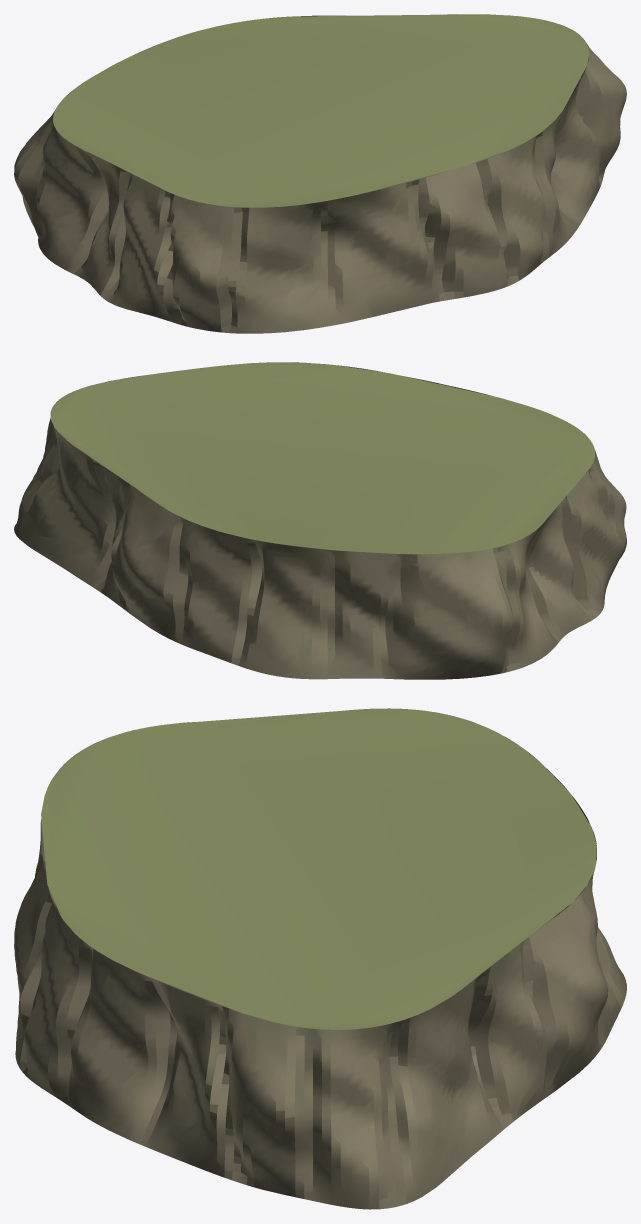
File: coast_1.glb
3 views of the same model, one above another, from view 1: azimuth 30°, elevation 25°; view 2: azimuth 150°, elevation 25°; view 3: azimuth 270°, elevation 25° (orthographic). The views are drawn at different scales.
Visible parts, largest first — view 1: Windmill limestone bank; view 2: Windmill limestone bank; view 3: Windmill limestone bank.
Boxes of the visible parts, x1,y1,x2,y2 form: Windmill limestone bank: [14, 14, 626, 333]; Windmill limestone bank: [14, 362, 626, 679]; Windmill limestone bank: [14, 708, 626, 1209].
Bounding box in the file's own units: 27.89 × 5.99 × 20.69.
